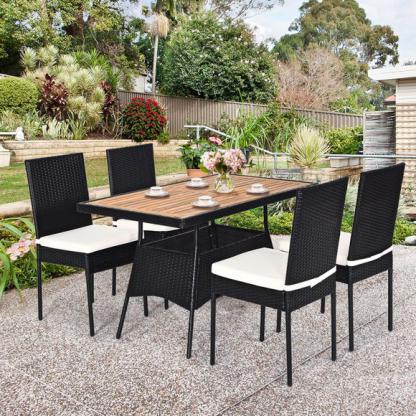table: (73, 166, 324, 361)
